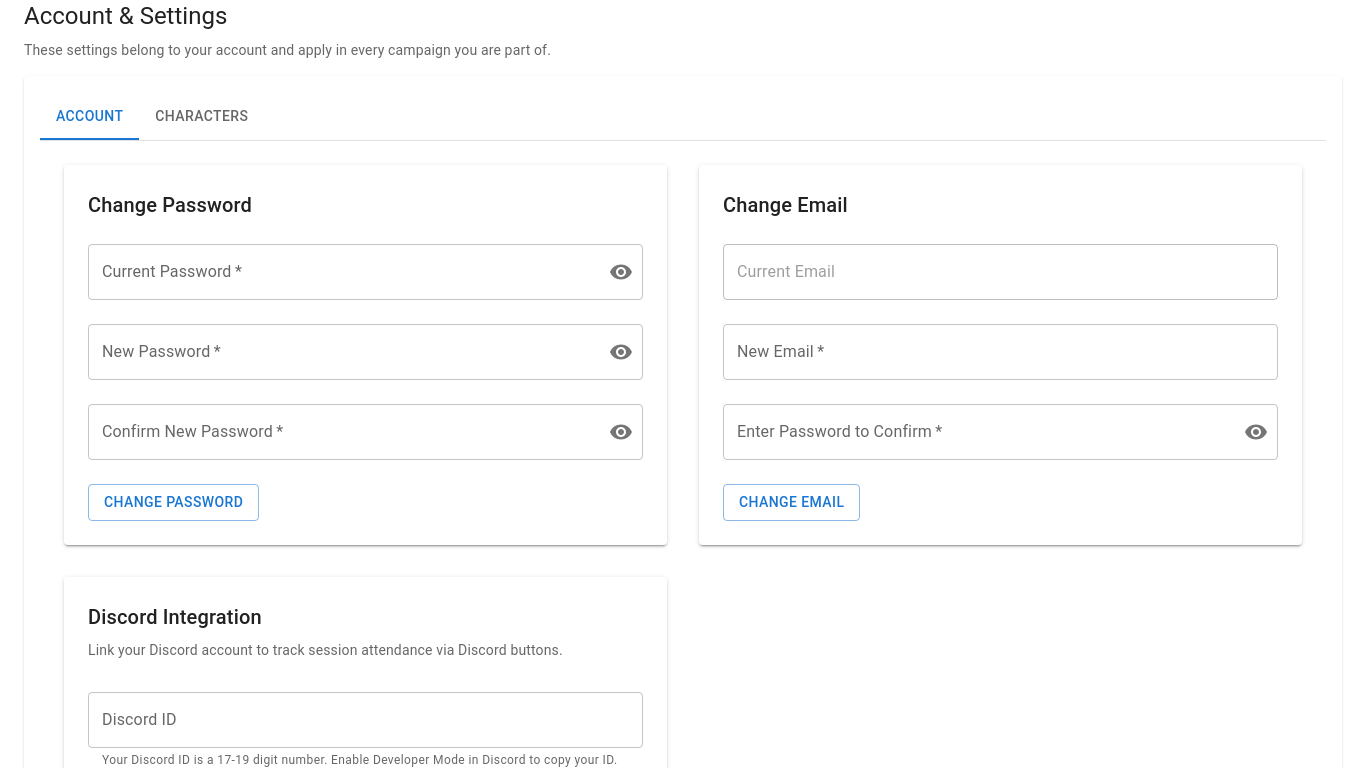
Test: UserSettings › keeps the saved Discord id when the refresh response does not carry one
The width and height of the screenshot is (1366, 768).
Type "987654321098765432" into the field labelled "Discord ID" at (366, 720), box x1=88 y1=692 x2=643 y2=748
(page scrolled)
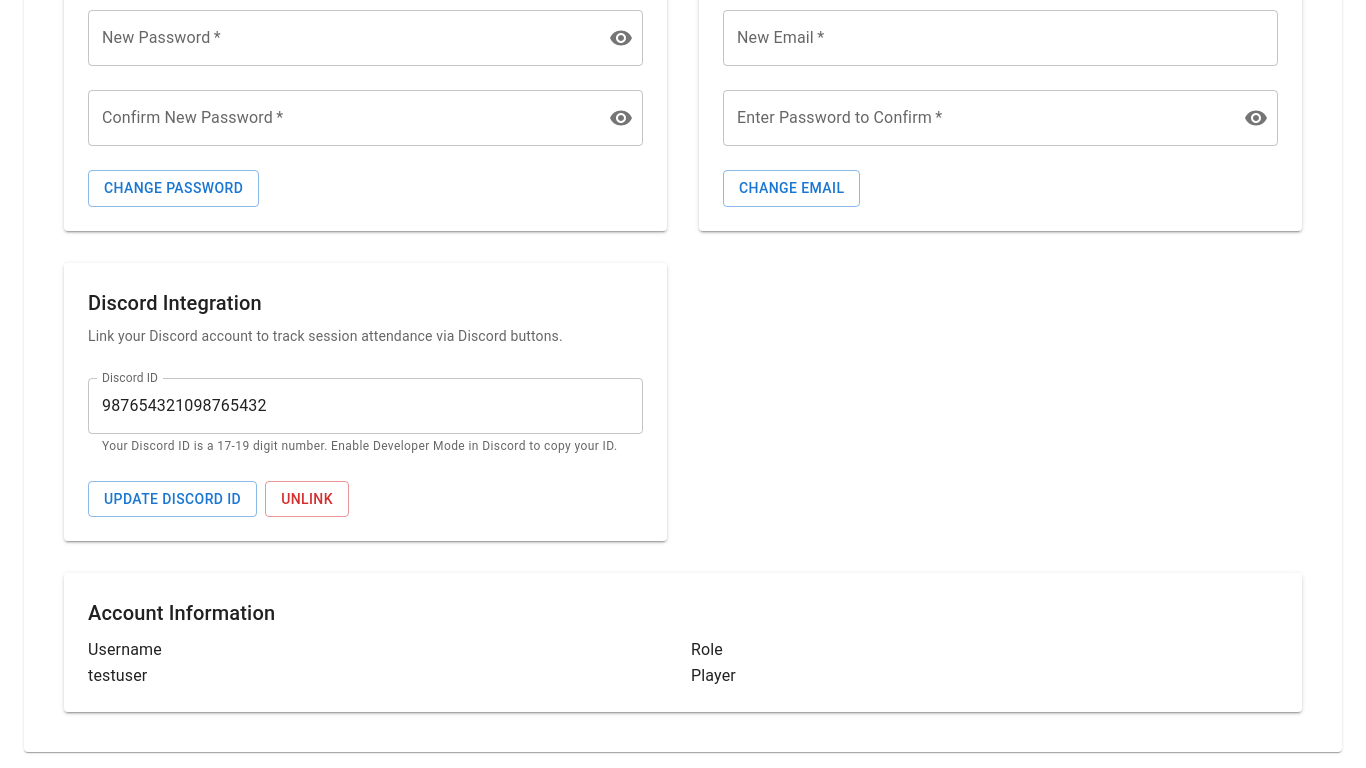
Click the button "Update Discord ID" at (173, 499), box x1=88 y1=481 x2=257 y2=517
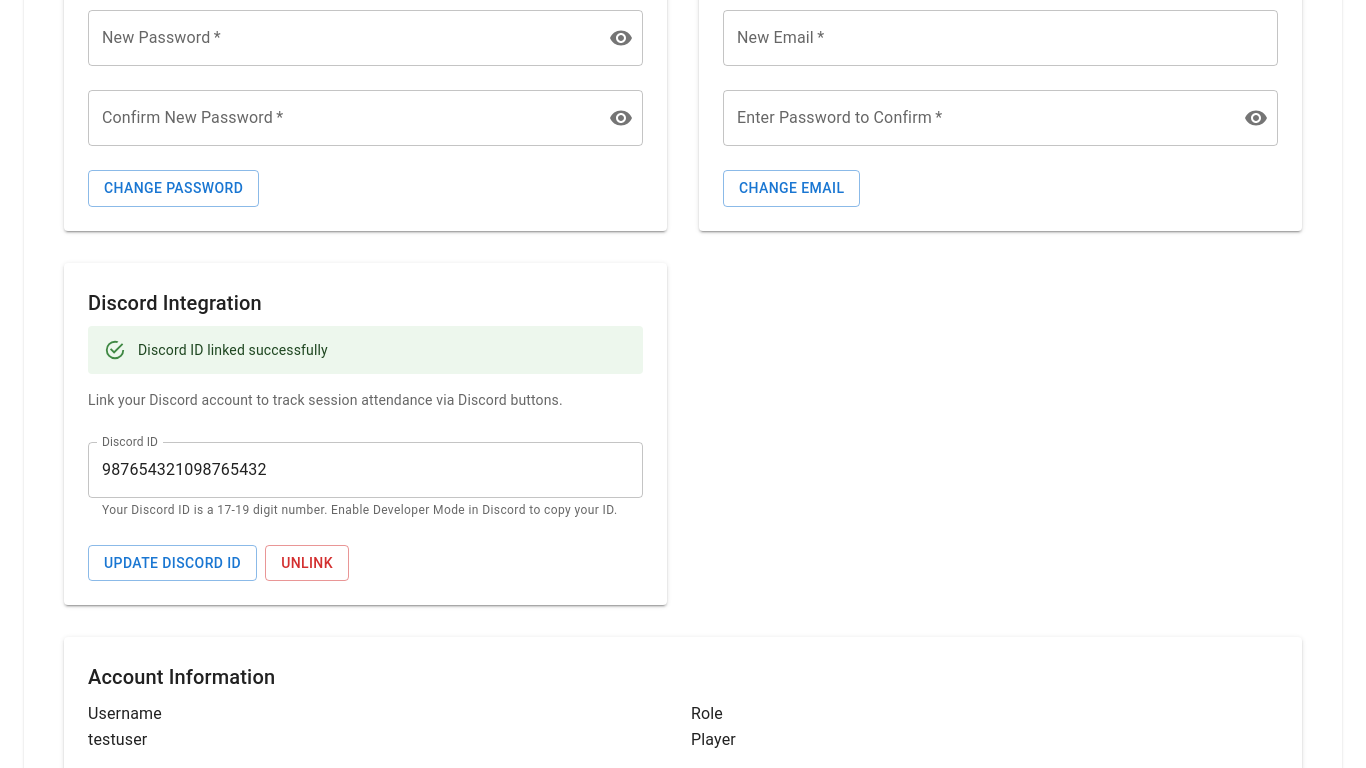
Expected: the text "Discord ID linked successfully" is shown, x1=138 y1=342 x2=328 y2=358
